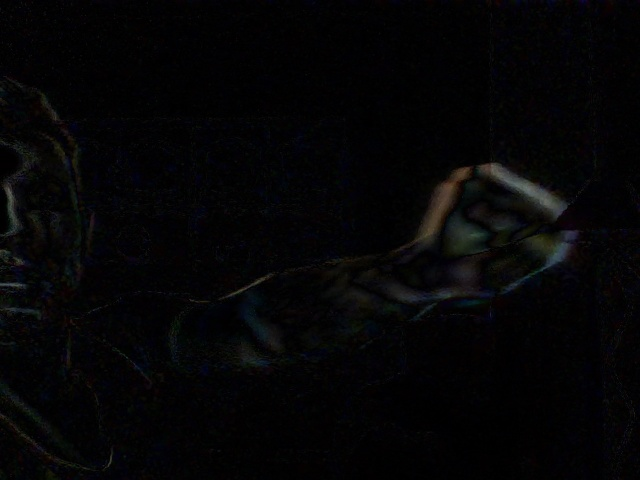hand_fi: (417, 156, 583, 313)
